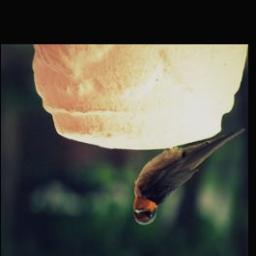Swallow: (131, 127, 245, 228)
